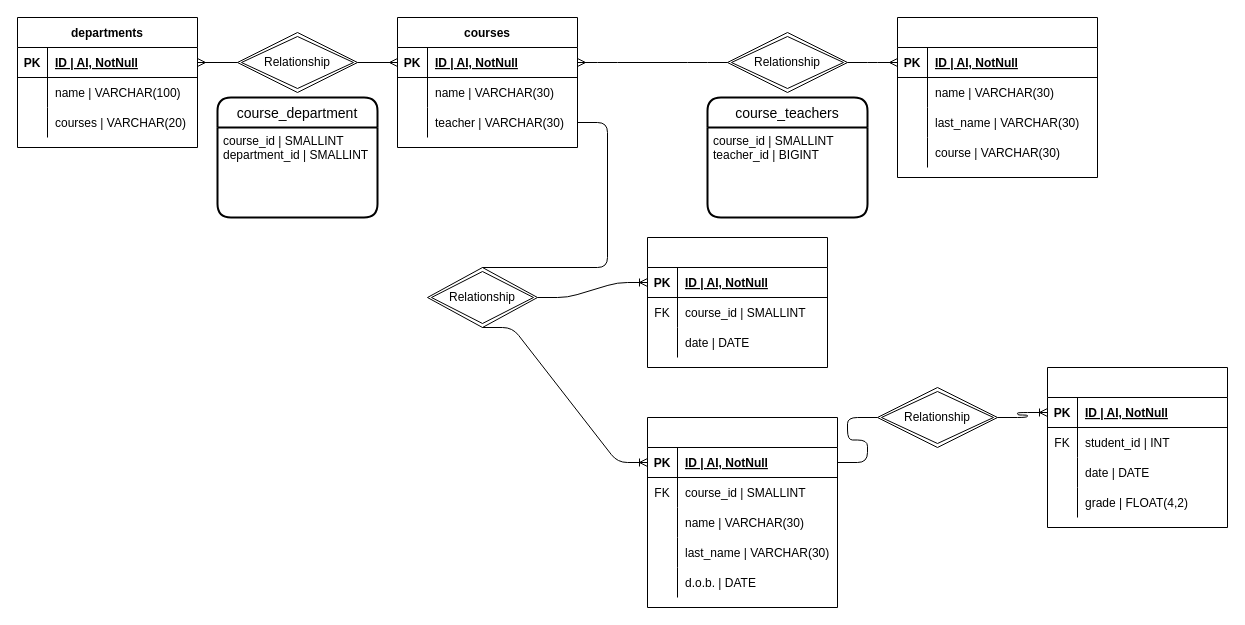
This 1245x625 diagram has some shape labels left out. Each missing label, with the box of its shape:
session_given: (1046, 366, 1228, 528)
sessions: (646, 236, 828, 368)
students: (646, 416, 838, 608)
teachers: (896, 16, 1098, 178)
